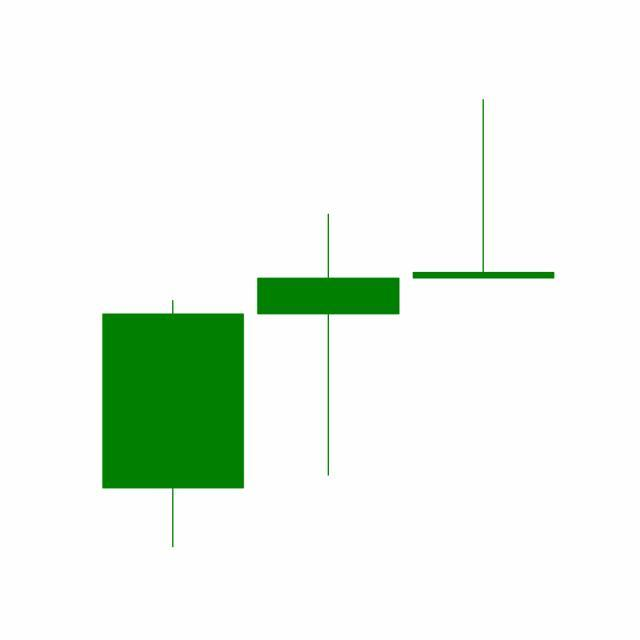Spinning Top: (250, 211, 407, 479)
